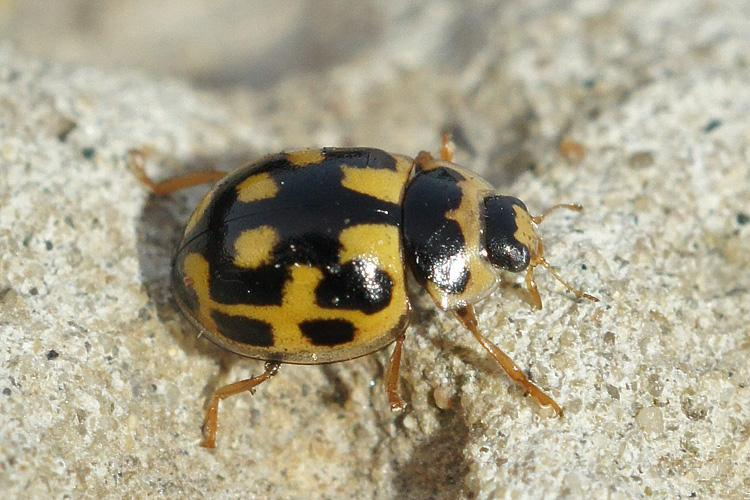ladybug: (121, 128, 604, 457)
